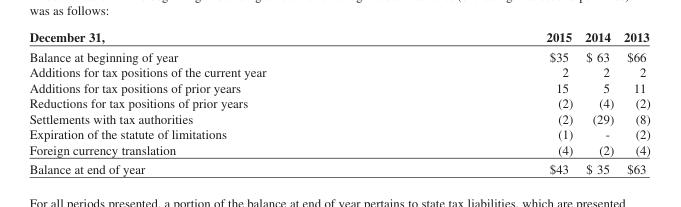table: (28, 29, 649, 175)
table column: (28, 29, 405, 175), (405, 29, 578, 175), (578, 29, 618, 175), (618, 29, 649, 175)
table column header: (28, 29, 649, 46)
table row: (28, 46, 649, 64), (28, 29, 649, 46), (28, 141, 649, 158), (28, 158, 649, 175), (28, 79, 649, 95), (28, 110, 649, 126), (28, 64, 649, 79), (28, 95, 649, 110), (28, 126, 649, 141)
